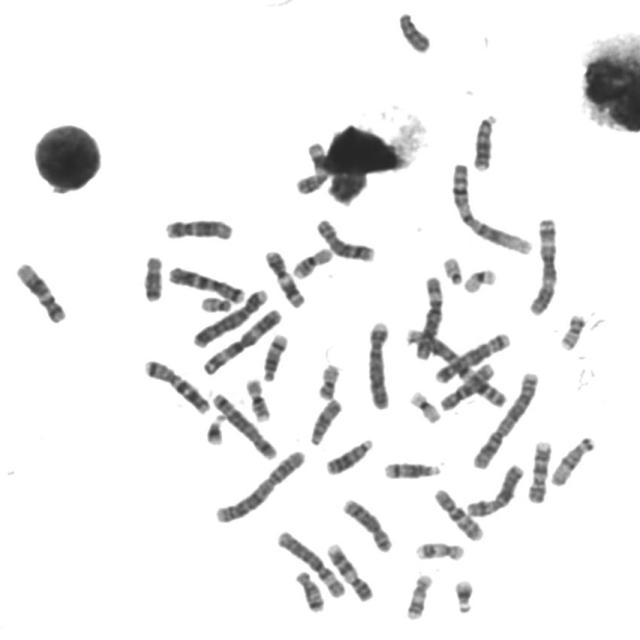A1: (402, 325, 509, 409), (446, 159, 535, 257)
A2: (212, 446, 308, 525), (469, 368, 540, 471)
A3: (199, 304, 284, 377), (524, 214, 560, 316)
B4: (189, 284, 270, 349), (363, 318, 394, 412)
B5: (208, 387, 280, 462), (430, 328, 512, 385)
C10: (430, 484, 486, 543), (436, 359, 497, 413)
C11: (261, 246, 307, 309), (292, 138, 330, 196)
C12: (12, 258, 68, 325), (160, 214, 235, 242)
C6: (274, 527, 346, 600), (411, 271, 446, 363)
C7: (140, 355, 212, 416), (164, 262, 247, 306)
C8: (338, 494, 395, 554), (312, 215, 378, 263)
C9: (323, 539, 375, 603), (524, 436, 554, 504)
D13: (322, 434, 375, 477), (469, 109, 500, 172)
D14: (259, 330, 290, 383), (379, 458, 444, 482)
D15: (547, 432, 597, 488), (305, 394, 344, 447)
E16: (288, 243, 335, 280), (242, 374, 272, 423)
E17: (402, 570, 435, 621), (412, 538, 467, 562)
E18: (291, 567, 326, 613), (140, 251, 165, 304)
F19: (406, 386, 443, 425), (460, 265, 499, 295)
F20: (556, 309, 588, 352), (314, 360, 342, 401)
G21: (450, 575, 477, 615), (202, 411, 228, 447)
G22: (439, 252, 465, 286), (196, 293, 234, 313)
X: (463, 459, 527, 518)
Y: (394, 8, 434, 54)
